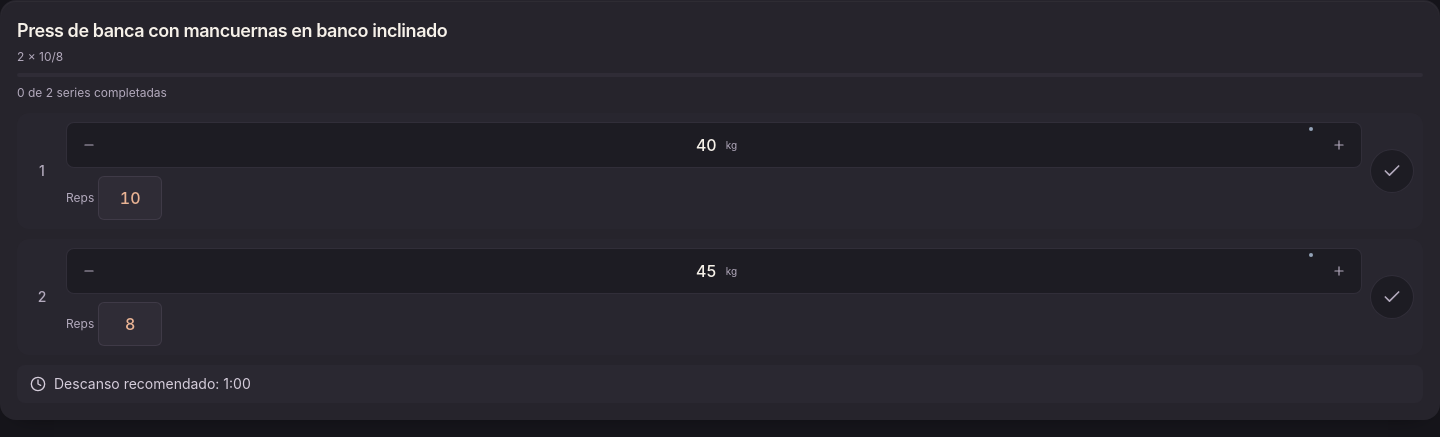
it: ExerciseCard set entry › preserves editable reps and clears an empty weight to zero on blur
Replace the text in the number field named "Reps para serie 2" with "7" at [130, 324], box [98, 302, 162, 346]
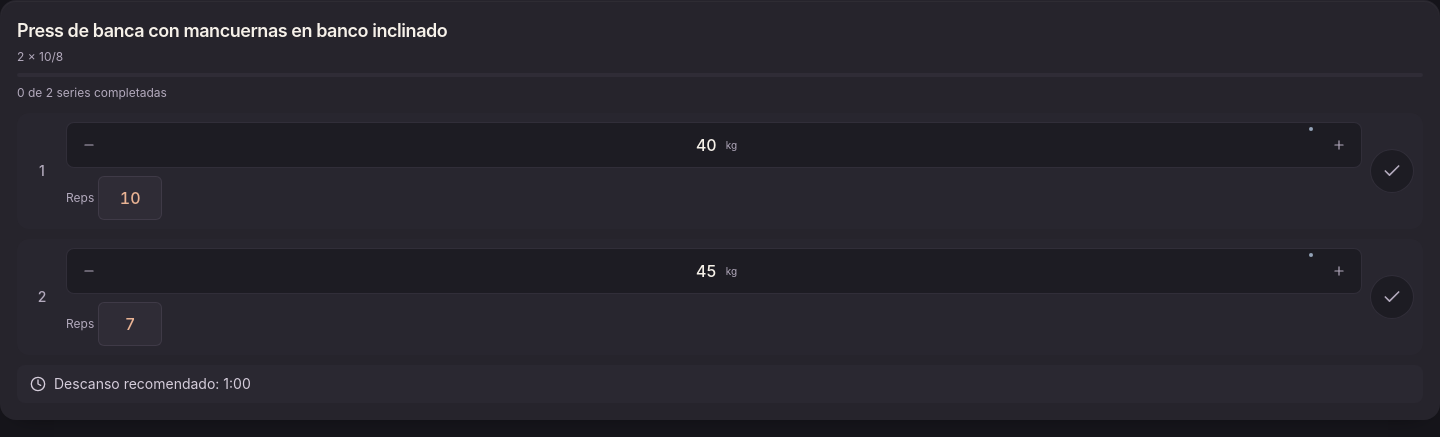
Clear the number field named "Peso para serie 1" at [706, 145], box [691, 123, 722, 167]
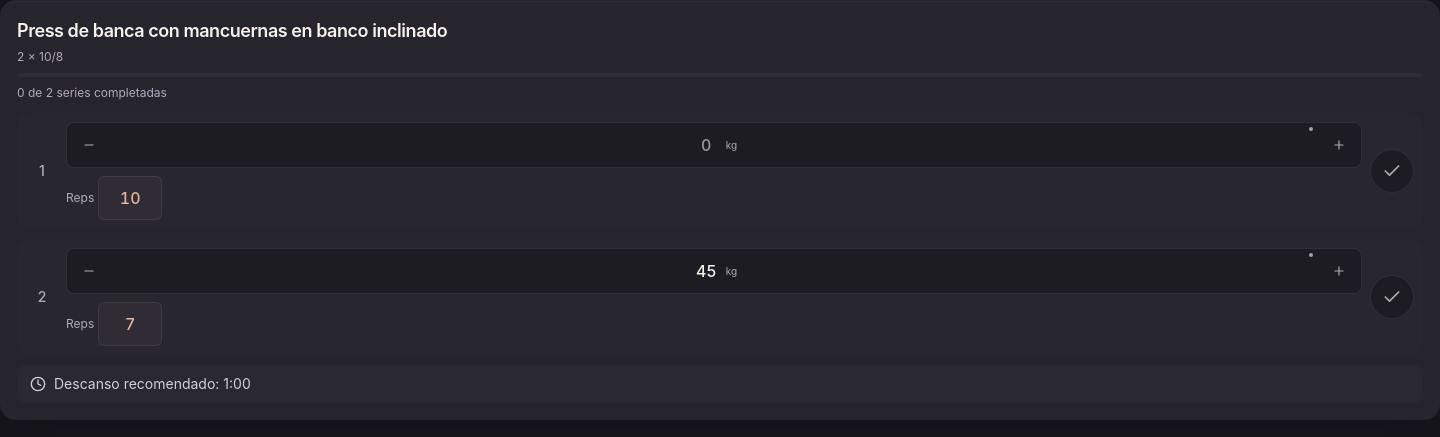
Leave the number field named "Peso para serie 1", box [691, 123, 722, 167]
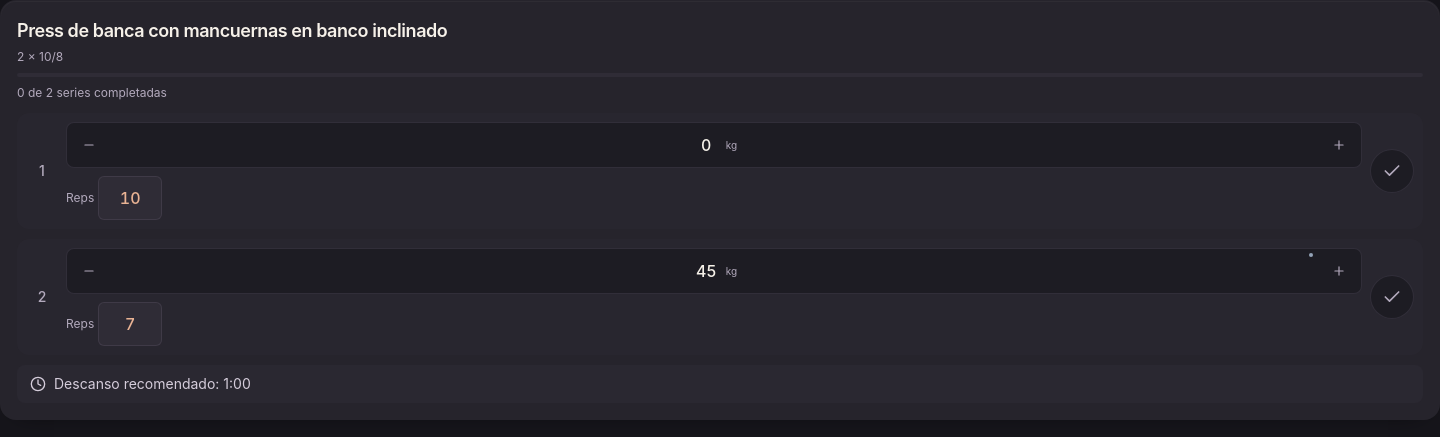
Expected: the number field named "Peso para serie 1" holds "0", [691, 123, 722, 167]
